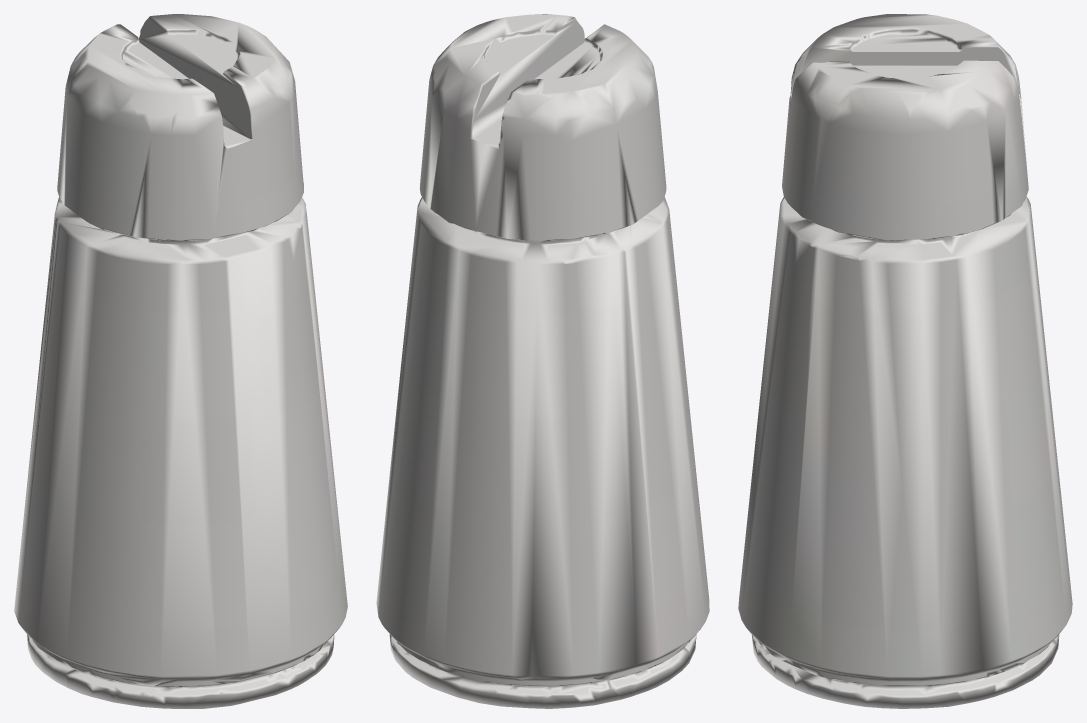
The model's file is 05_vez_bila.glb.
3 views of the same model, side by side, from view 1: azimuth 30°, elevation 25°; view 2: azimuth 150°, elevation 25°; view 3: azimuth 270°, elevation 25° (orthographic).
Visible parts, largest first — view 1: 05_vez_bila; view 2: 05_vez_bila; view 3: 05_vez_bila.
Part boxes in pixels (bbox=[...]): 05_vez_bila: bbox=[14, 14, 347, 708]; 05_vez_bila: bbox=[376, 14, 709, 708]; 05_vez_bila: bbox=[738, 14, 1072, 708].
Size of the model in its own units: 0.0349 by 0.0684 by 0.035.
1 material, 1 textured.
